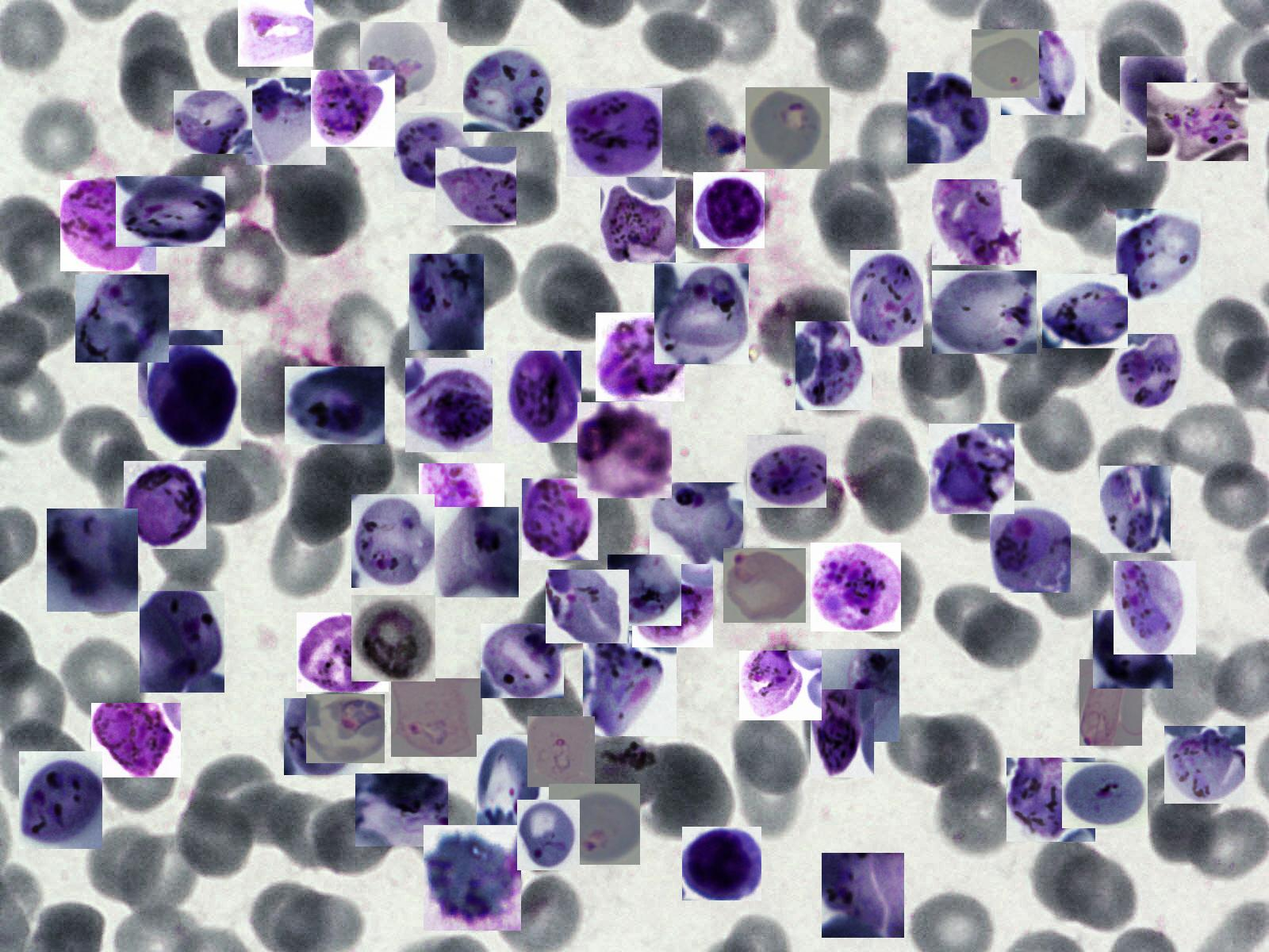Infected: (424, 825, 521, 931), (583, 631, 677, 736), (148, 345, 241, 450), (654, 263, 749, 364), (47, 509, 138, 612), (577, 402, 672, 498), (60, 180, 156, 271), (932, 271, 1037, 354), (140, 591, 224, 693), (566, 88, 662, 177), (75, 274, 169, 363), (405, 358, 493, 452), (19, 751, 102, 849), (1116, 209, 1201, 303), (650, 482, 744, 567), (811, 543, 901, 631), (351, 494, 435, 588), (1147, 83, 1248, 161), (577, 733, 665, 822), (596, 313, 684, 401), (433, 507, 519, 597), (932, 179, 1022, 265), (116, 176, 225, 247), (816, 649, 899, 742), (285, 367, 385, 444), (929, 424, 1014, 514), (907, 72, 991, 163), (1114, 561, 1196, 654), (463, 46, 551, 132), (1006, 758, 1095, 842), (990, 501, 1071, 593), (419, 463, 504, 550), (138, 330, 223, 417), (549, 784, 640, 865), (297, 612, 389, 692), (360, 22, 447, 106), (351, 595, 435, 681), (124, 461, 206, 549), (409, 254, 484, 350), (391, 678, 482, 757), (850, 250, 923, 347), (1001, 31, 1085, 115), (822, 853, 904, 938), (246, 78, 326, 165), (746, 87, 830, 169), (507, 351, 581, 443), (477, 735, 544, 836), (796, 321, 872, 410), (632, 564, 713, 647), (355, 774, 448, 846), (91, 703, 181, 777), (600, 177, 676, 263), (311, 70, 395, 147), (1042, 274, 1128, 348), (1164, 726, 1245, 804), (435, 147, 516, 225), (394, 113, 473, 192), (1093, 611, 1173, 689), (522, 478, 598, 560), (723, 548, 806, 623), (1100, 466, 1171, 553), (481, 624, 564, 698), (546, 570, 629, 643), (284, 698, 362, 775), (1120, 56, 1197, 132), (682, 827, 761, 900), (747, 435, 826, 508), (739, 651, 822, 720), (1062, 762, 1148, 828), (811, 689, 874, 777), (1079, 659, 1142, 746), (306, 694, 385, 763), (1115, 334, 1187, 409), (694, 172, 765, 248), (608, 555, 681, 626), (238, 0, 313, 67), (174, 90, 252, 154), (527, 716, 595, 787), (972, 29, 1039, 98), (517, 800, 580, 870)
Uninfected: (269, 151, 366, 260), (622, 87, 738, 175), (179, 442, 287, 530), (194, 220, 289, 320), (888, 707, 994, 792), (54, 401, 151, 491), (59, 633, 147, 729), (388, 309, 470, 412), (162, 142, 263, 223), (1079, 132, 1170, 221), (169, 786, 260, 874), (426, 234, 519, 320), (756, 286, 849, 372), (752, 466, 845, 551), (1030, 528, 1115, 620), (86, 822, 175, 909), (309, 22, 401, 106), (1159, 402, 1253, 484), (935, 765, 1020, 853), (1063, 174, 1153, 257), (656, 743, 732, 841), (923, 230, 1008, 317), (1033, 147, 1122, 229), (305, 798, 396, 878), (394, 785, 480, 868), (842, 416, 919, 508), (553, 491, 641, 571), (949, 470, 1038, 549), (264, 501, 339, 594), (0, 720, 87, 800), (1189, 299, 1268, 386), (903, 317, 976, 411), (810, 160, 894, 241), (1034, 837, 1111, 925), (197, 753, 278, 836), (496, 874, 585, 949), (1147, 642, 1227, 724), (522, 246, 600, 330), (121, 51, 197, 137), (17, 96, 98, 176), (120, 834, 196, 919), (292, 451, 361, 544), (1037, 305, 1113, 388), (174, 451, 258, 526), (734, 709, 803, 800), (640, 3, 727, 75), (238, 347, 308, 435), (321, 416, 393, 501), (852, 547, 919, 638), (1097, 428, 1180, 501), (542, 265, 622, 340), (550, 390, 622, 473), (656, 178, 730, 258), (825, 194, 898, 275), (478, 117, 562, 187), (513, 582, 593, 655), (857, 106, 930, 185), (377, 451, 448, 532), (1102, 3, 1189, 69), (147, 510, 225, 583), (500, 662, 582, 731), (960, 606, 1044, 673), (105, 735, 179, 811), (1060, 859, 1137, 932), (1100, 31, 1171, 109), (1011, 136, 1083, 212), (274, 794, 343, 873), (7, 286, 83, 357), (1020, 393, 1090, 470), (90, 441, 159, 519), (1153, 789, 1217, 872), (466, 174, 557, 232), (935, 581, 1010, 651), (815, 18, 891, 87), (738, 756, 798, 841), (861, 455, 923, 536), (999, 345, 1061, 425), (204, 10, 278, 77), (121, 11, 192, 80)
